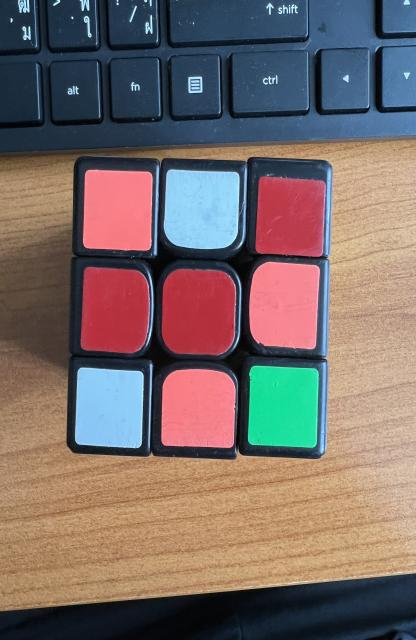Green: (248, 366, 318, 448)
Orange: (249, 261, 320, 349), (161, 369, 236, 448), (83, 170, 153, 251)
Red: (161, 269, 236, 355), (80, 268, 150, 354), (256, 176, 326, 256)
White: (164, 169, 239, 249), (75, 368, 144, 448)
